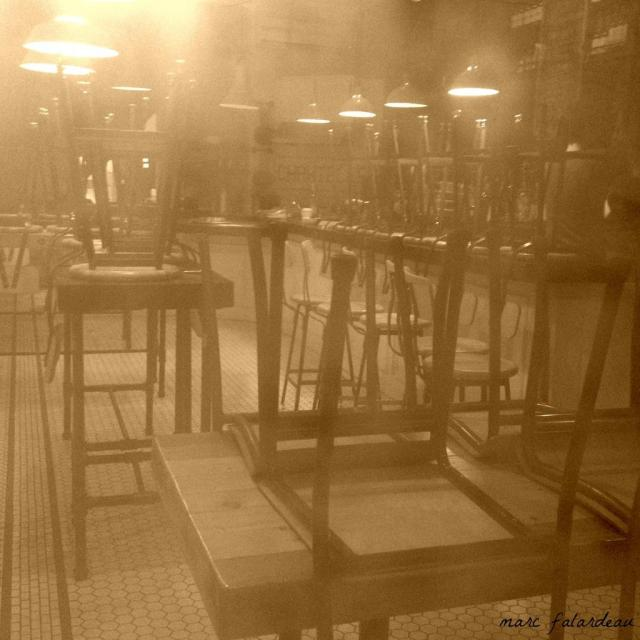Table: (29, 254, 233, 484)
